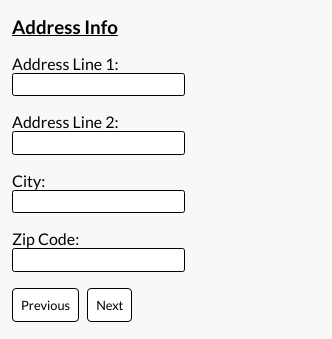
it: successful backward step transitions › step one renders after step two
Step 1. Click the button "Previous" → (46, 304), box left=12, top=288, right=79, bottom=322
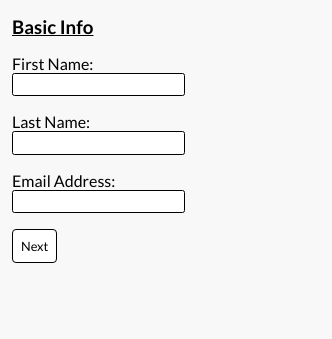
Check: the heading "Basic Info" is shown, box left=12, top=16, right=94, bottom=38
